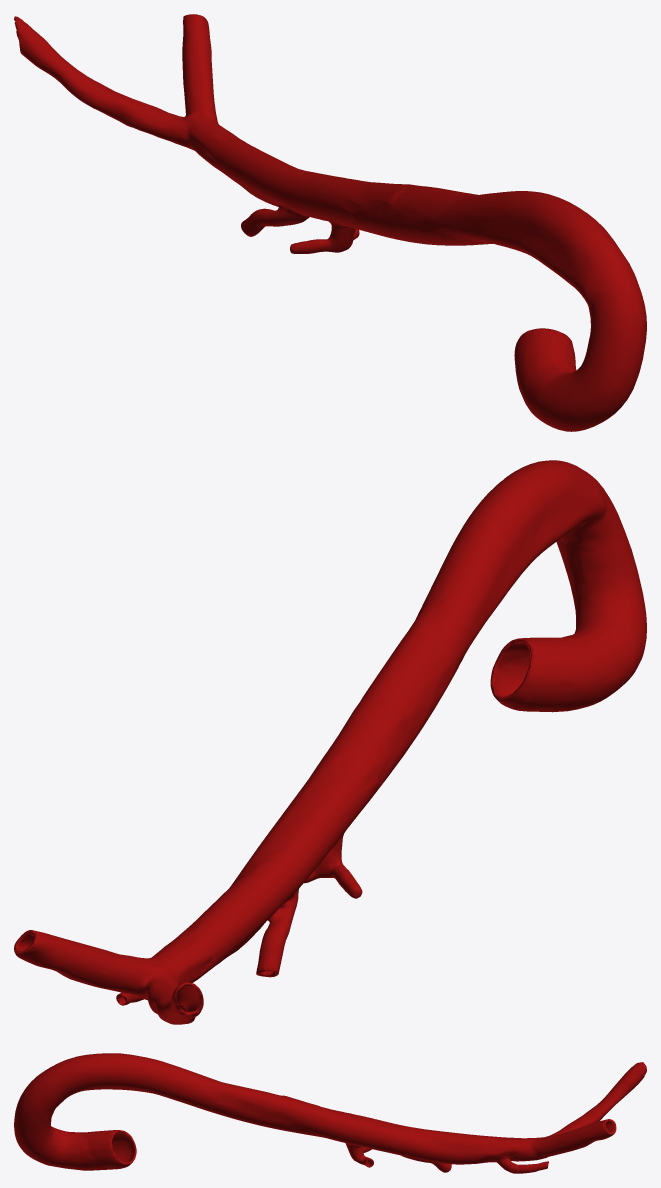
The model's file is body-05.glb.
3 renders of one model, top to bottom at view 1: azimuth 30°, elevation 25°; view 2: azimuth 150°, elevation 25°; view 3: azimuth 270°, elevation 25°, orthographic. The views are drawn at different scales.
Parts seen in each view (by area): view 1: Extract4; view 2: Extract4; view 3: Extract4.
Boxes of the visible parts, x1,y1,x2,y2 form: Extract4: (14,14,646,431); Extract4: (14,460,646,1024); Extract4: (14,1053,646,1173).
Bounding box in the file's own units: 0.8893 × 1.03 × 4.38.
